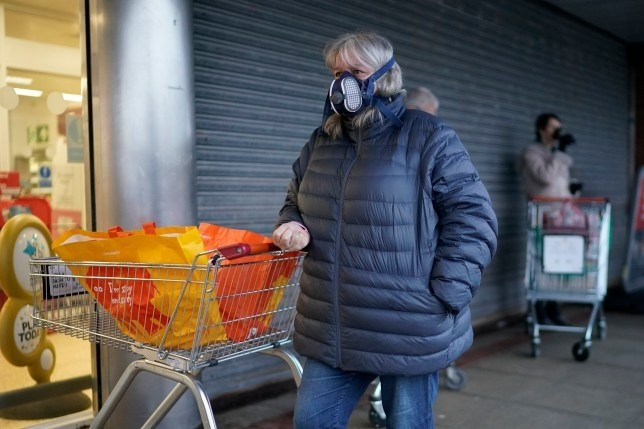face_with_mask: (325, 30, 399, 120)
